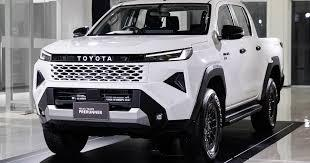toyota: (75, 51, 114, 66)
